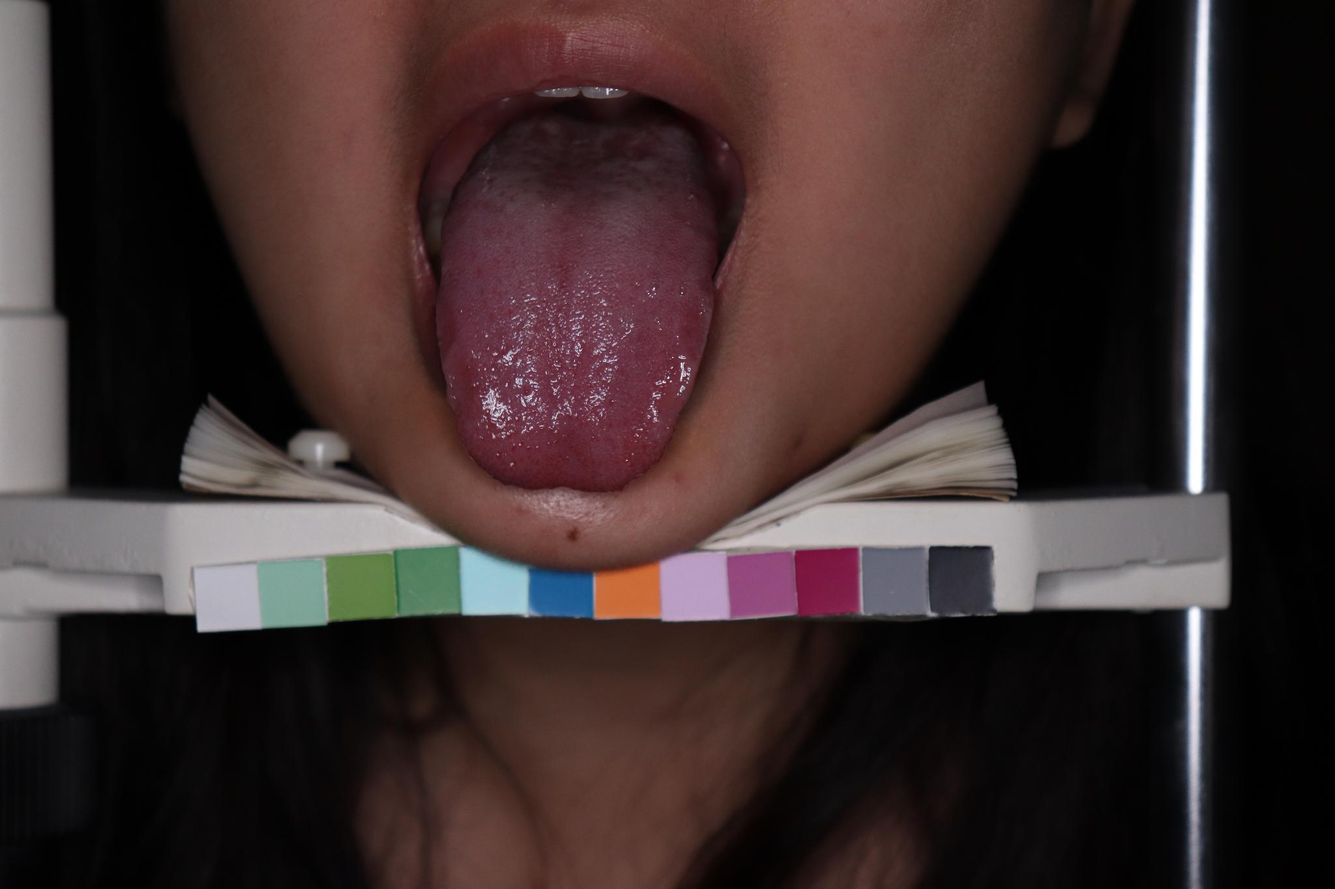baitaishe: (434, 106, 719, 498)
huataishe: (469, 348, 699, 460)
zishe: (434, 106, 719, 499)
